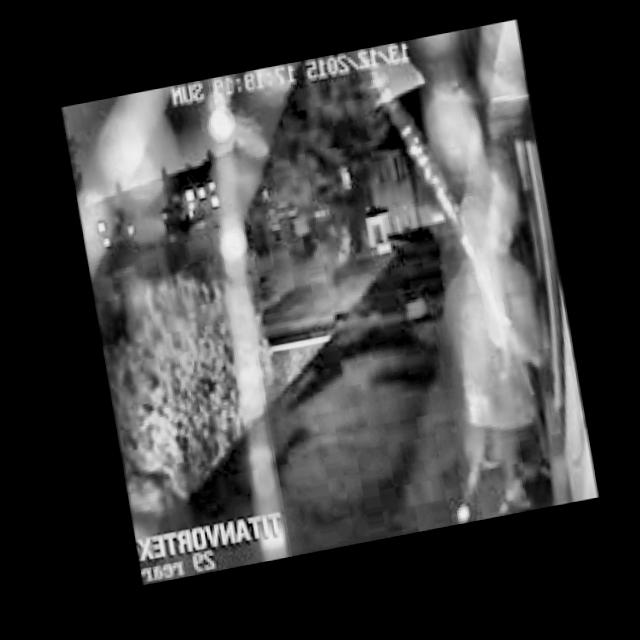burglary: (391, 129, 595, 532)
